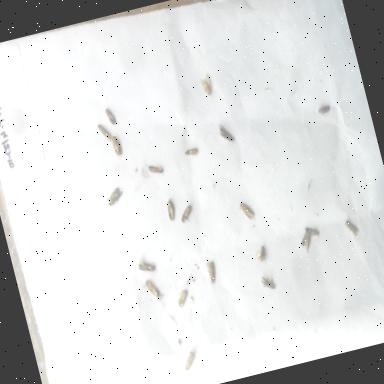pbw: (234, 193, 259, 227), (100, 182, 128, 212), (131, 251, 159, 280), (211, 118, 239, 147), (200, 258, 221, 288), (180, 348, 202, 376), (171, 284, 194, 310), (196, 71, 216, 98), (142, 276, 162, 302), (162, 194, 180, 222), (176, 198, 196, 223), (143, 157, 167, 177), (298, 228, 316, 254), (314, 98, 336, 119), (95, 119, 114, 143), (258, 271, 277, 294), (252, 242, 270, 265), (342, 215, 360, 237), (102, 104, 118, 126), (302, 222, 322, 238), (110, 134, 122, 158), (184, 144, 201, 160)
